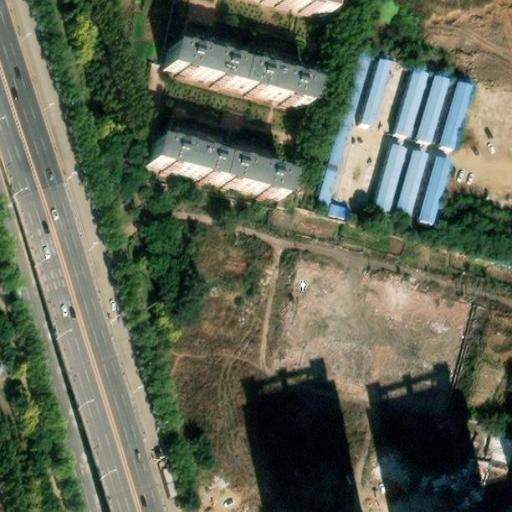building: (165, 50, 313, 109), (317, 51, 369, 205), (146, 143, 280, 201), (437, 82, 476, 153), (415, 74, 452, 145), (395, 68, 429, 138), (396, 149, 429, 218), (361, 56, 392, 126), (377, 144, 407, 212), (418, 155, 448, 223), (489, 428, 512, 460), (327, 201, 347, 220)
